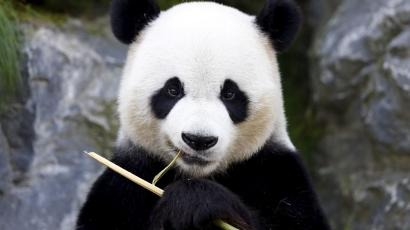panda: (78, 1, 333, 228)
